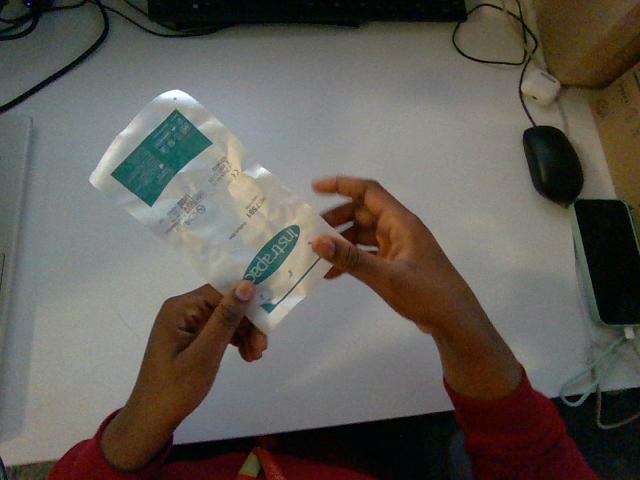gallipot: (90, 90, 334, 332)
